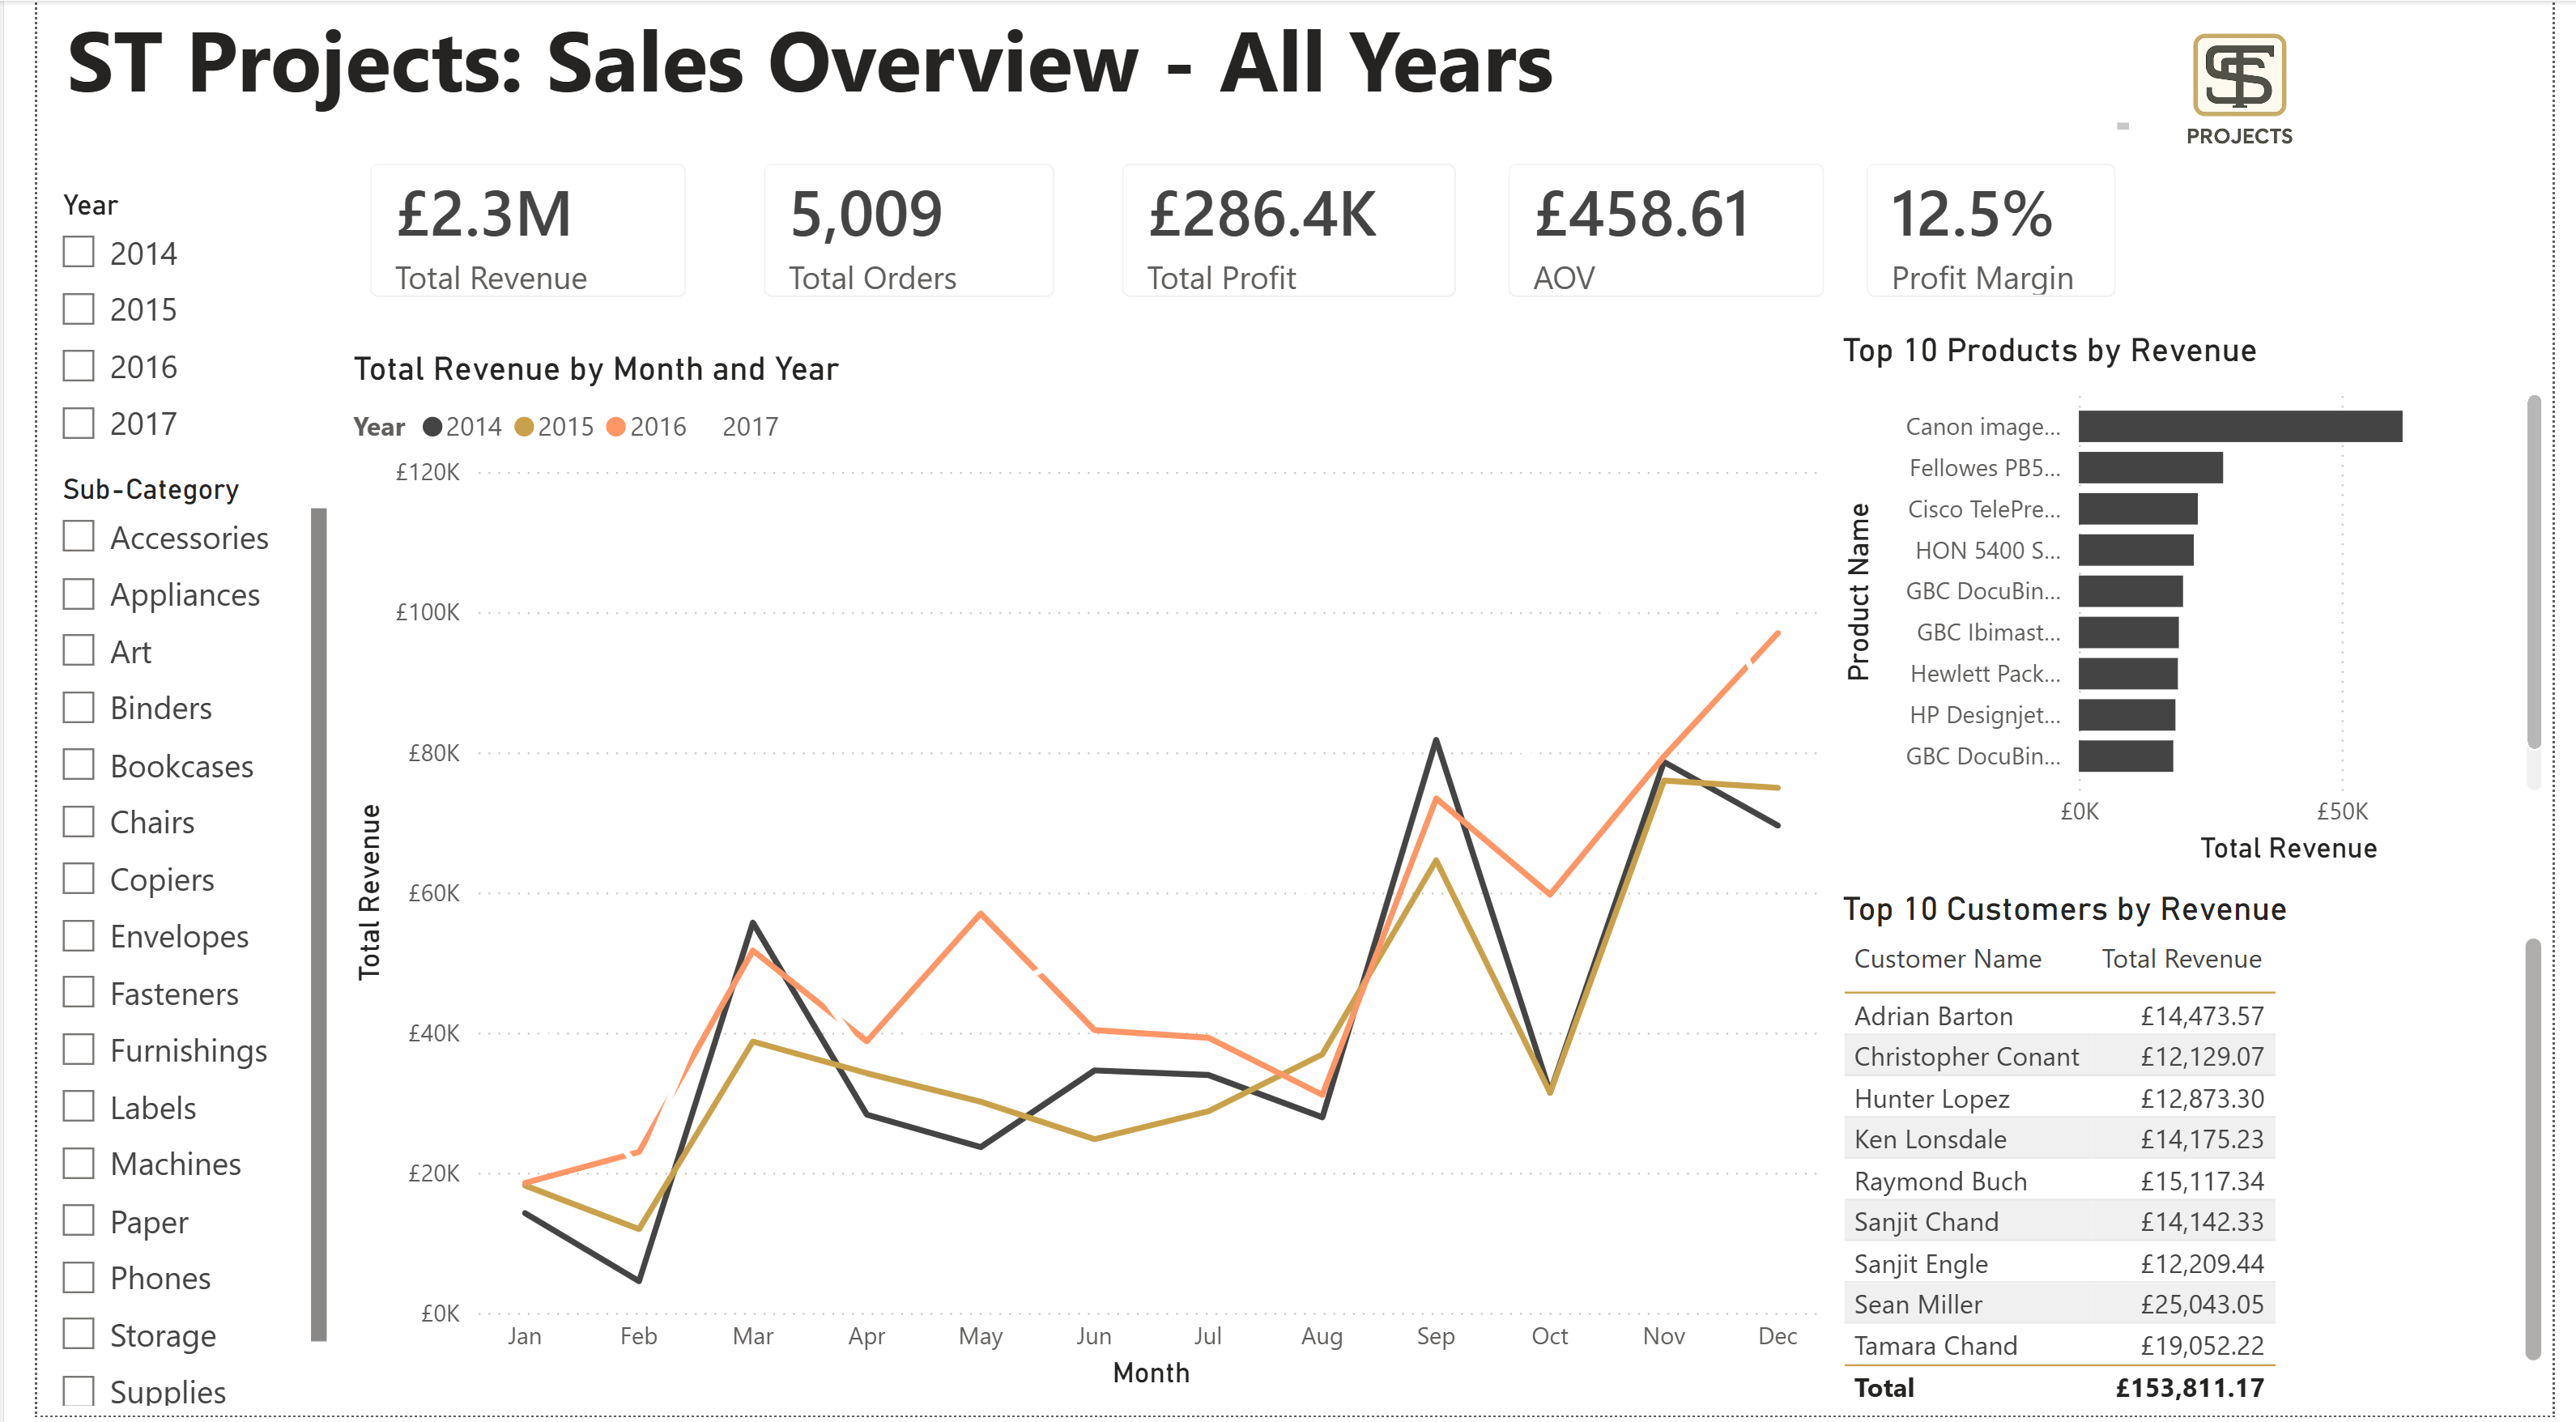

The dashboard page shown, as its layout file describes it:
{"tool":"powerbi","page":{"name":"Sales Overview","canvas":[1280,720],"ordinal":0},"visuals":[{"type":"textbox","box":[9.9,0,1061.5,71.1],"z":0},{"type":"image","box":[1064.6,0,215.2,100.1],"z":1000},{"type":"cardVisual","fields":{"Data":["Sales.Total Revenue"]},"box":[152.1,65.5,196,102],"z":2000},{"type":"cardVisual","fields":{"Data":["Sales.Total Orders"]},"box":[352.4,65.5,182.4,102],"z":3000},{"type":"cardVisual","fields":{"Data":["Sales.AOV"]},"box":[731.3,65.5,195.4,102],"z":4000},{"type":"lineChart","fields":{"Category":["DateTable.Month"],"Y":["Sales.Total Revenue"],"Series":["DateTable.Year"]},"box":[155.6,176.6,757.9,533.6],"z":5000},{"type":"slicer","fields":{"Values":["DateTable.Year"]},"box":[0,90.2,152.4,181.8],"z":6000},{"type":"clusteredBarChart","title":"Top 10 Products by Revenue","fields":{"Y":["Sales.Total Revenue"],"Category":["Products.Product Name"]},"box":[913.7,167.5,366,275.7],"z":7000},{"type":"slicer","fields":{"Values":["Products.Sub-Category"]},"box":[0,234.8,152.4,485.2],"z":8000},{"type":"tableEx","title":"Top 10 Customers by Revenue","fields":{"Values":["Customers.Customer Name","Sales.Total Revenue"]},"box":[913.6,451.9,366.2,268.1],"z":9000},{"type":"cardVisual","fields":{"Data":["Customers.Total Profit"]},"box":[534.8,65.5,204.6,102],"z":10000},{"type":"cardVisual","fields":{"Data":["Customers.Profit Margin"]},"box":[913.7,65.5,162,102],"z":11000}]}

Visuals, with their boxes in screenshot pixels (x1, y1, x2, y2), scaled from the page's 1280x720 canvas onto the 2576x1422 screenshot:
textbox: 20/0/2157/140
image: 2143/0/2575/198
cardVisual - Sales.Total Revenue: 306/130/700/331
cardVisual - Sales.Total Orders: 709/130/1076/331
cardVisual - Sales.AOV: 1471/130/1865/331
lineChart - DateTable.Month x Sales.Total Revenue: 313/349/1838/1403
slicer - DateTable.Year: 0/178/307/537
"Top 10 Products by Revenue" clusteredBarChart: 1839/331/2575/875
slicer - Products.Sub-Category: 0/464/307/1421
"Top 10 Customers by Revenue" tableEx: 1838/892/2575/1421
cardVisual - Customers.Total Profit: 1076/130/1488/331
cardVisual - Customers.Profit Margin: 1839/130/2165/331
